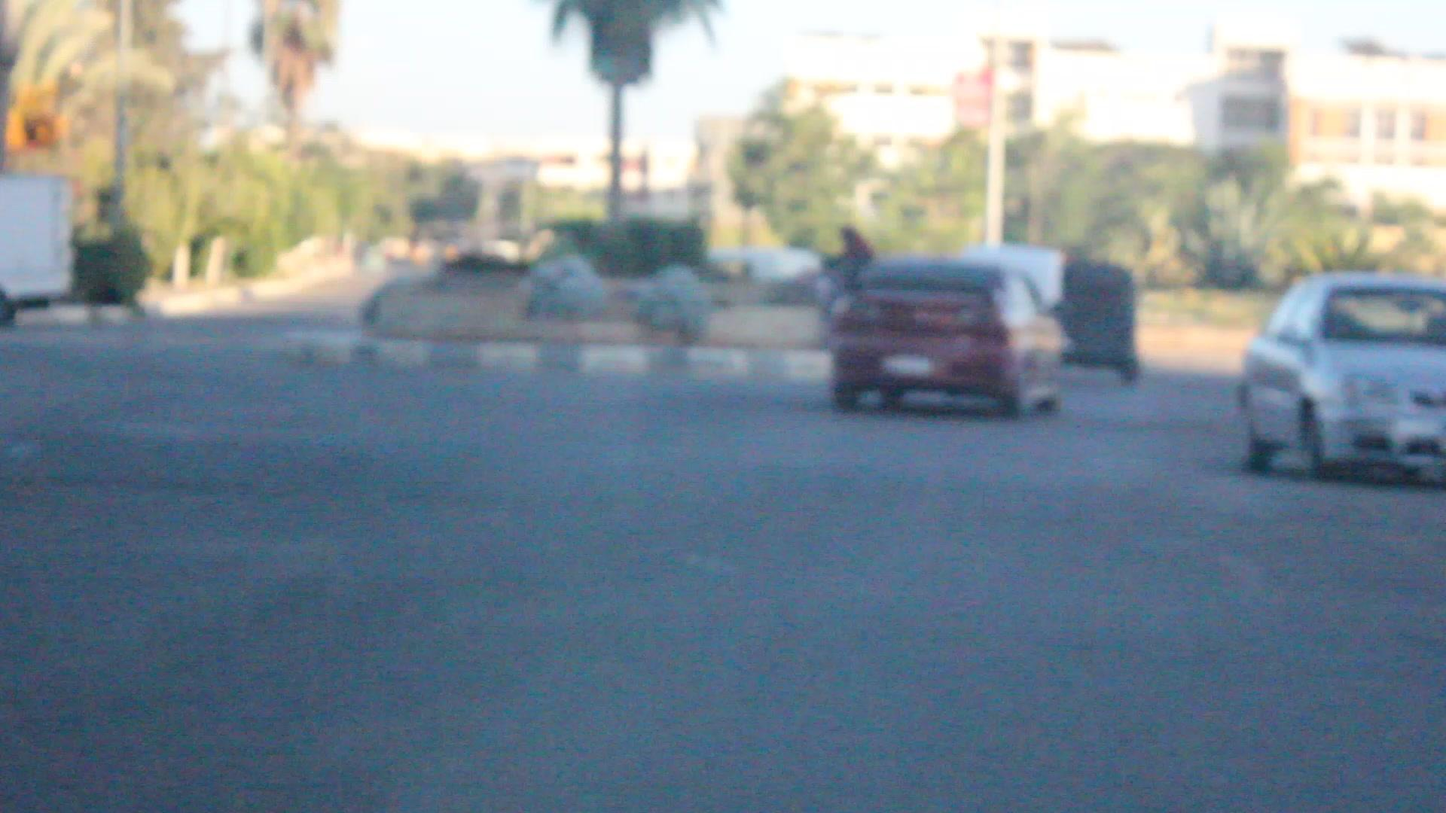Bump: (15, 408, 1446, 548)
